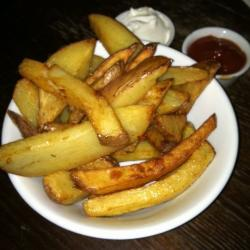fries: (17, 40, 218, 217)
